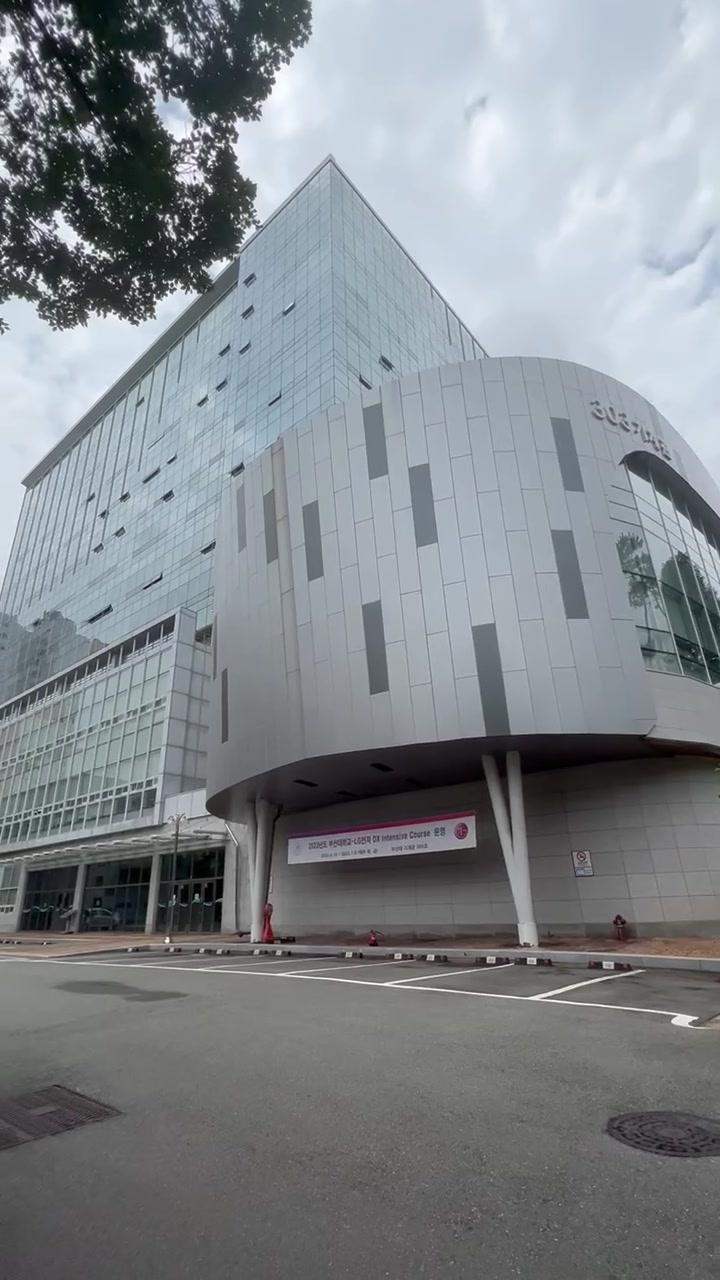building: (24, 358, 654, 800)
